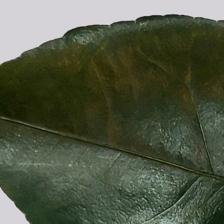healthy: (5, 21, 223, 224)
